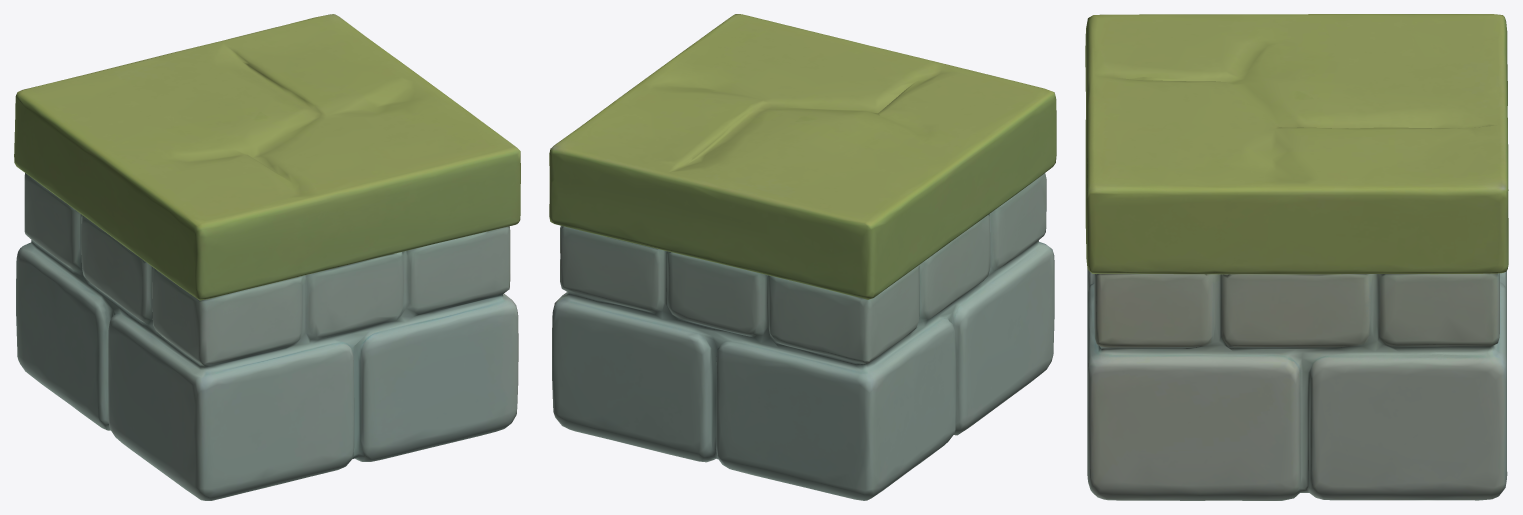
File: grass_tripo_v7_raw.glb
3 renders of one model, left to right at view 1: azimuth 30°, elevation 25°; view 2: azimuth 150°, elevation 25°; view 3: azimuth 270°, elevation 25°, orthographic. The views are drawn at different scales.
Visible parts, largest first — view 1: tripo_node_4502d38e-2dda-4b25-8010-c4ac6b404b5c; view 2: tripo_node_4502d38e-2dda-4b25-8010-c4ac6b404b5c; view 3: tripo_node_4502d38e-2dda-4b25-8010-c4ac6b404b5c.
Part boxes in pixels (box(x1,y1,x2,y2)): tripo_node_4502d38e-2dda-4b25-8010-c4ac6b404b5c: box(14, 14, 520, 500); tripo_node_4502d38e-2dda-4b25-8010-c4ac6b404b5c: box(549, 14, 1056, 500); tripo_node_4502d38e-2dda-4b25-8010-c4ac6b404b5c: box(1085, 14, 1508, 500).
Bounding box in the file's own units: 0.9957 × 0.841 × 1.
1 material, 1 textured.
